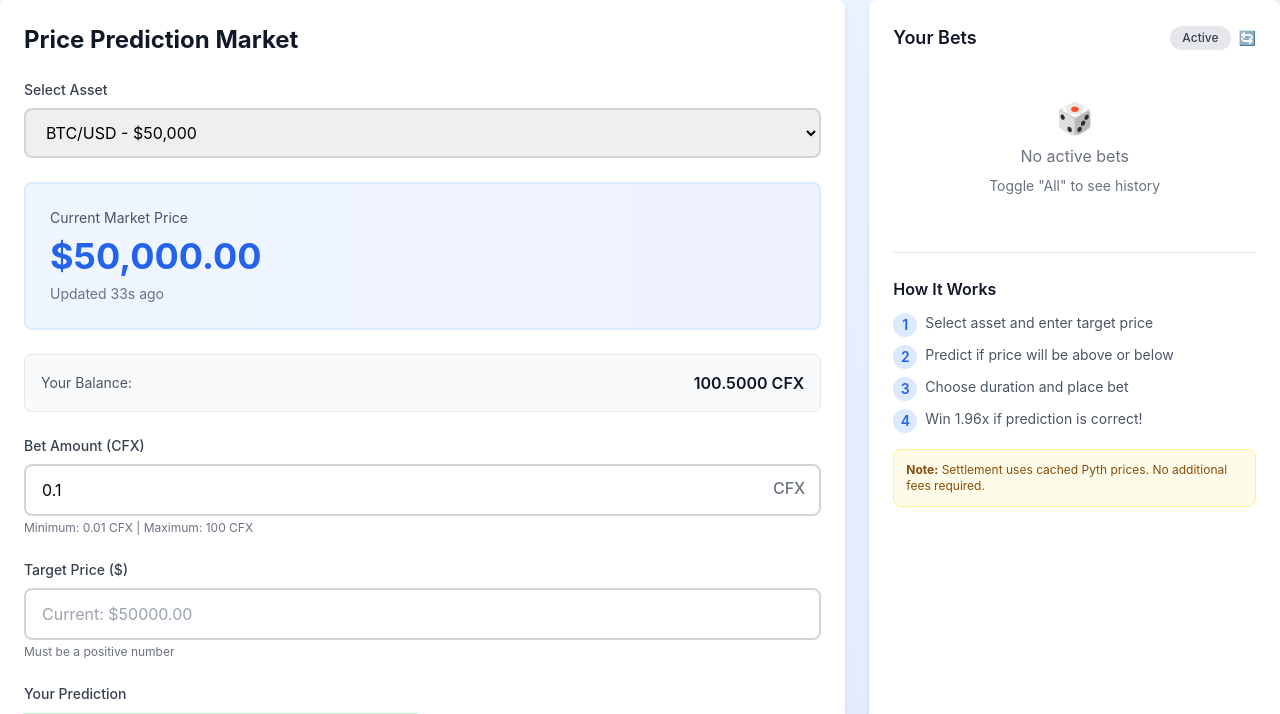
it: BettingInterface Component › Asset Selection › displays correct price for selected asset
Expected: the text "Current Market Price" shows "50,000", top-left (74, 234), bottom-right (262, 278)
Step 1. Select "ETH/USD - $3,000" in the dropdown → (423, 133), box top-left (24, 108), bottom-right (821, 158)
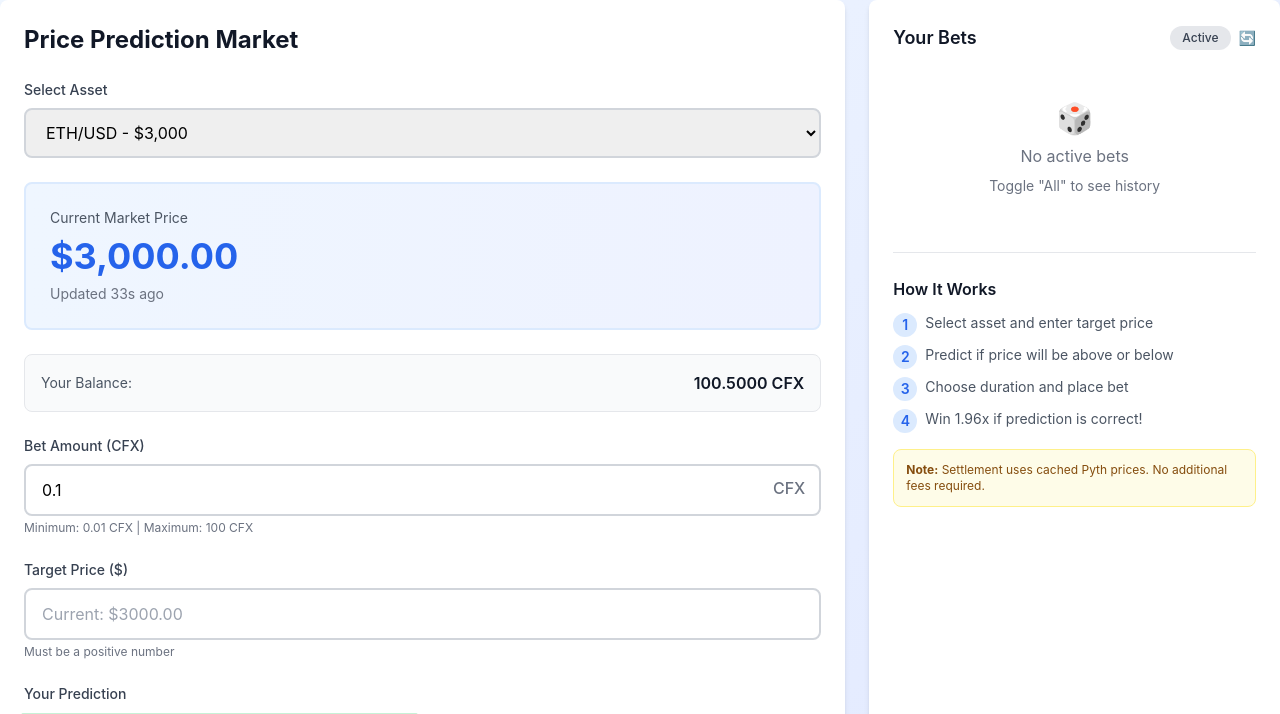
Expected: the text "Current Market Price" shows "3,000", top-left (74, 234), bottom-right (238, 278)
